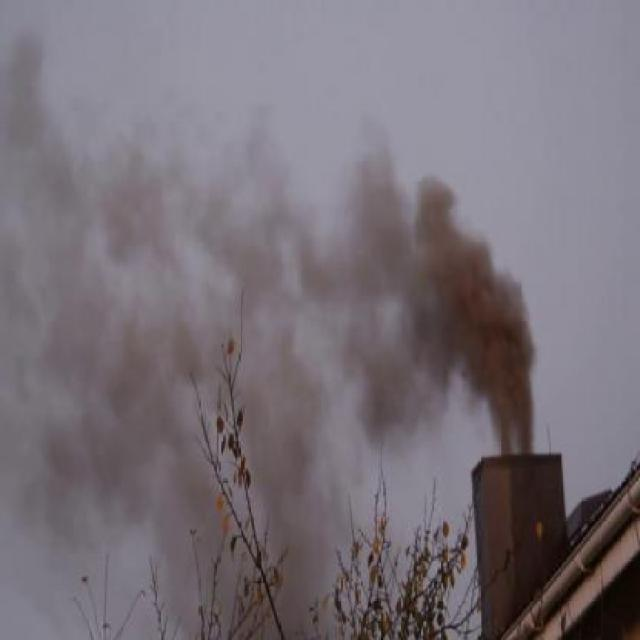smoke: (240, 160, 548, 452), (2, 49, 186, 523)
